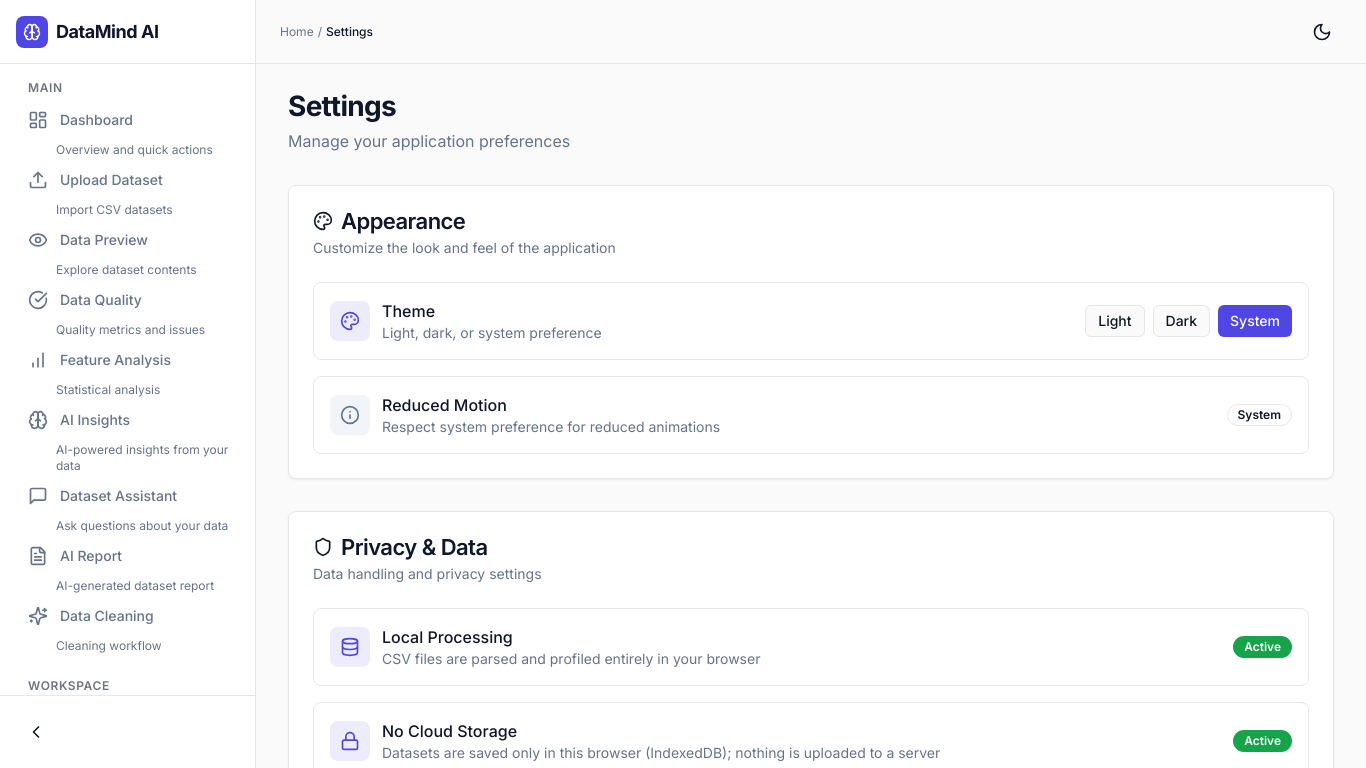
it: Theme › header toggle and settings buttons stay in sync
Click the button named "Switch to dark mode": x=1322, y=32 [1302,12,1342,52]
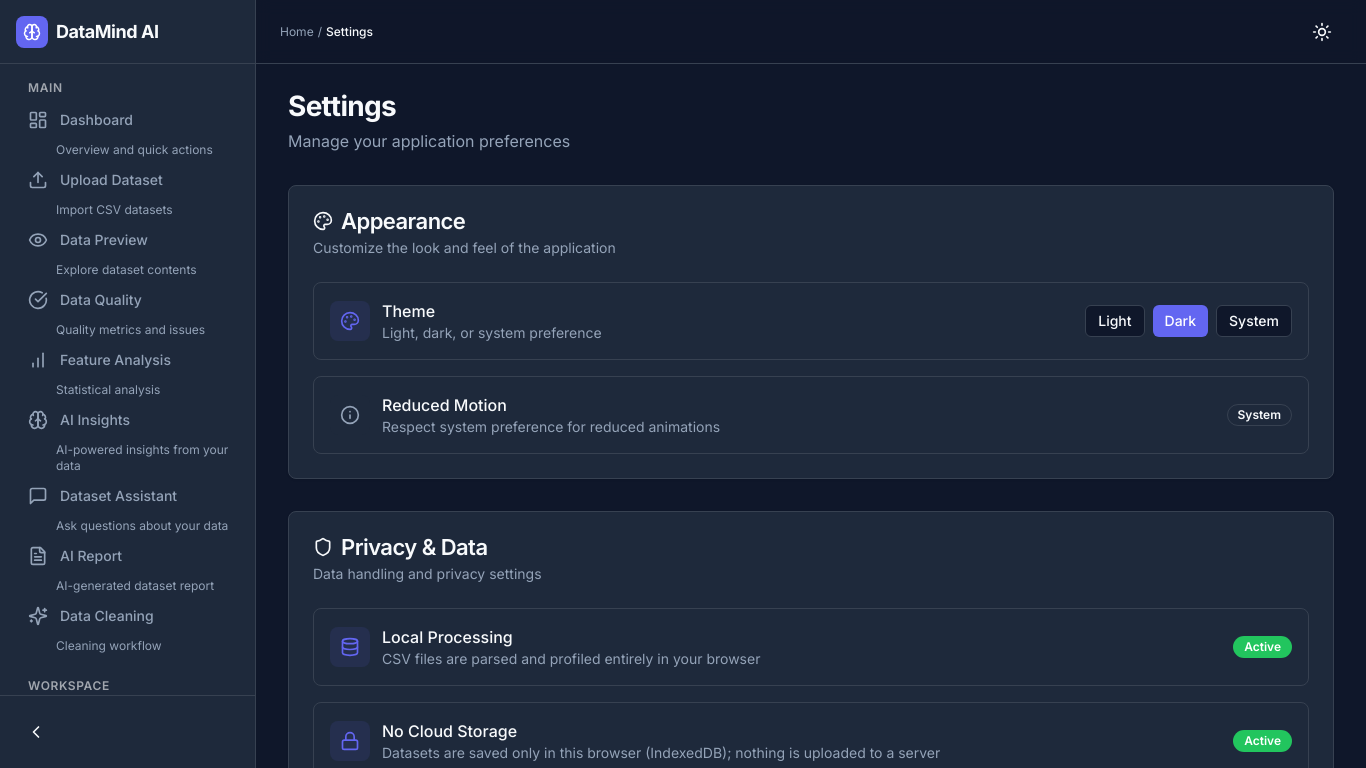
Check: the button "Dark" is pressed, box [1152,305,1208,337]
